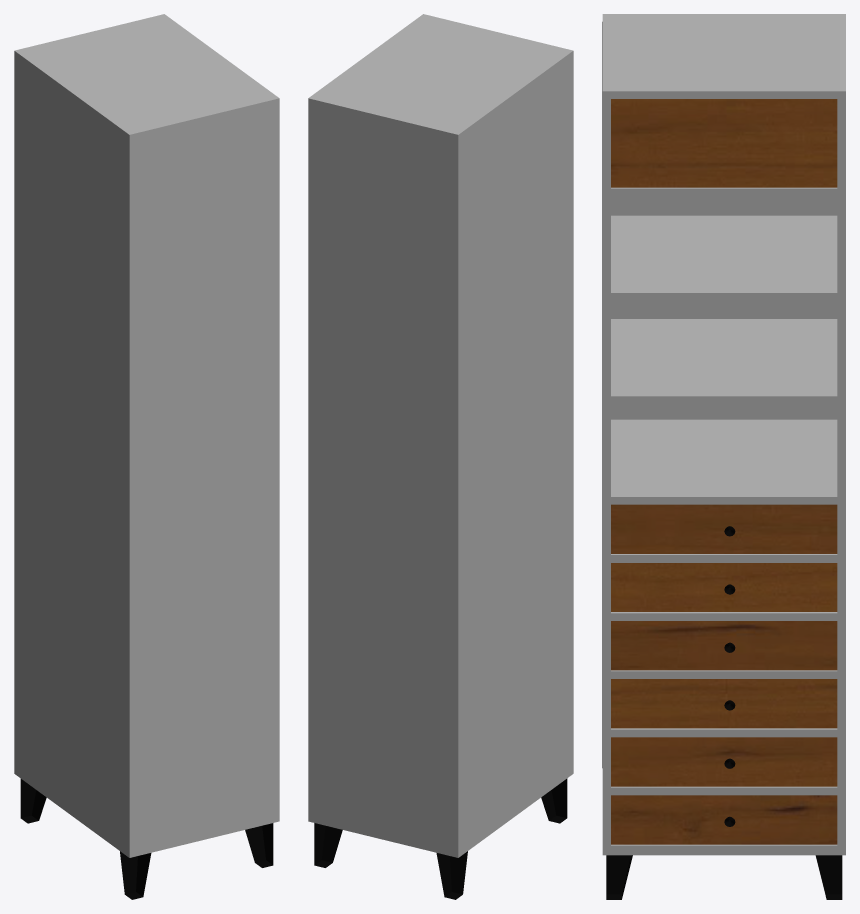
The model's file is shkaf.fbx.
3 renders of one model, left to right at view 1: azimuth 30°, elevation 25°; view 2: azimuth 150°, elevation 25°; view 3: azimuth 270°, elevation 25°, orthographic. The views are drawn at different scales.
Visible parts, largest first — view 1: ÐŸÐ_Ð_Ñ_ÐºÐ_Ñ_Ñ_ÑŒ_001_ÐŸÐ_Ð_Ñ_ÐºÐ_Ñ_Ñ_ÑŒ_003; view 2: ÐŸÐ_Ð_Ñ_ÐºÐ_Ñ_Ñ_ÑŒ_001_ÐŸÐ_Ð_Ñ_ÐºÐ_Ñ_Ñ_ÑŒ_003; view 3: ÐŸÐ_Ð_Ñ_ÐºÐ_Ñ_Ñ_ÑŒ_001_ÐŸÐ_Ð_Ñ_ÐºÐ_Ñ_Ñ_ÑŒ_003.
Boxes of the visible parts, x1,y1,x2,y2 form: ÐŸÐ_Ð_Ñ_ÐºÐ_Ñ_Ñ_ÑŒ_001_ÐŸÐ_Ð_Ñ_ÐºÐ_Ñ_Ñ_ÑŒ_003: (14,14,279,899); ÐŸÐ_Ð_Ñ_ÐºÐ_Ñ_Ñ_ÑŒ_001_ÐŸÐ_Ð_Ñ_ÐºÐ_Ñ_Ñ_ÑŒ_003: (308,14,573,899); ÐŸÐ_Ð_Ñ_ÐºÐ_Ñ_Ñ_ÑŒ_001_ÐŸÐ_Ð_Ñ_ÐºÐ_Ñ_Ñ_ÑŒ_003: (602,14,845,899).
Size of the model in its own units: 17.74 by 83.97 by 22.89.
Materials: 3 (1 with a texture image).
